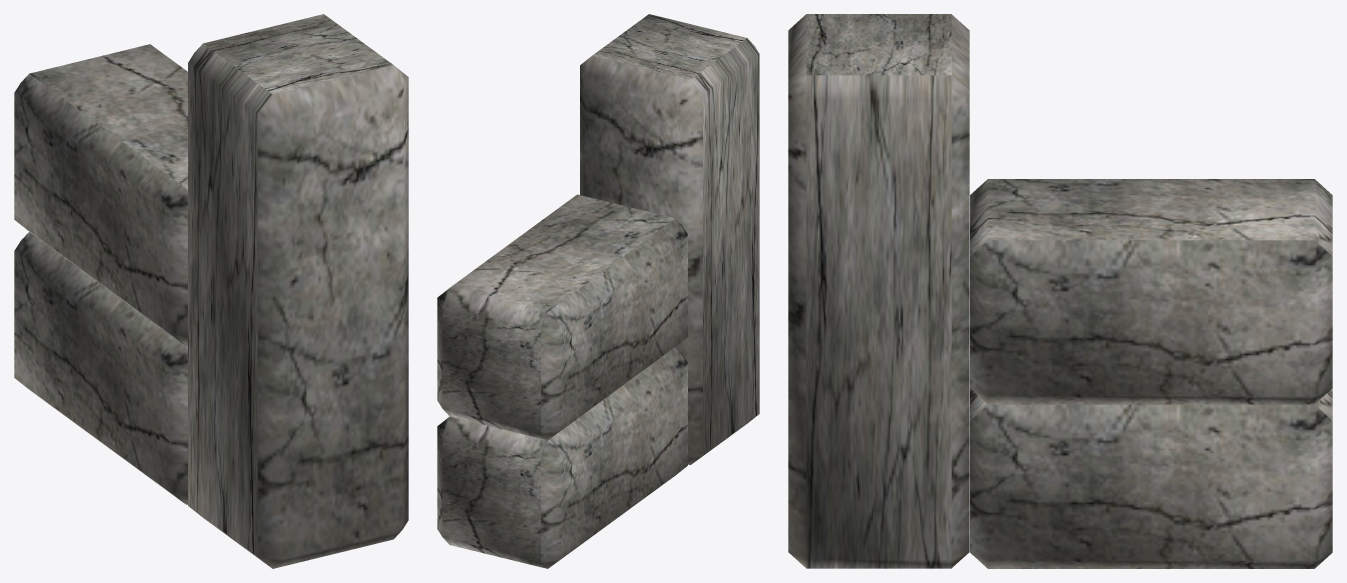
Rendered from BLOCK_CLUSTER02.fbx.
3 views of the same model, side by side, from view 1: azimuth 30°, elevation 25°; view 2: azimuth 150°, elevation 25°; view 3: azimuth 270°, elevation 25° (orthographic). The views are drawn at different scales.
Parts seen in each view (by area): view 1: BLOCK_CLUSTER02; view 2: BLOCK_CLUSTER02; view 3: BLOCK_CLUSTER02.
Boxes of the visible parts, left/top/right/bottom form: BLOCK_CLUSTER02: left=14, top=14, right=408, bottom=568; BLOCK_CLUSTER02: left=437, top=14, right=759, bottom=568; BLOCK_CLUSTER02: left=788, top=14, right=1332, bottom=568.
Bounding box in the file's own units: 10058 × 30000 × 30015.
Materials: 1 (1 with a texture image).
